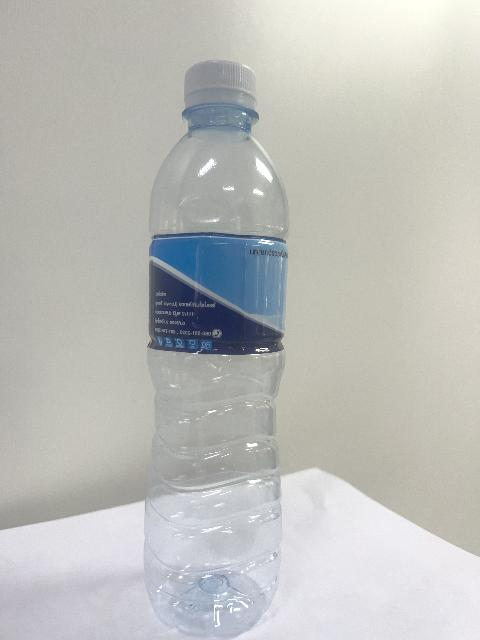bottle: (144, 61, 287, 637)
